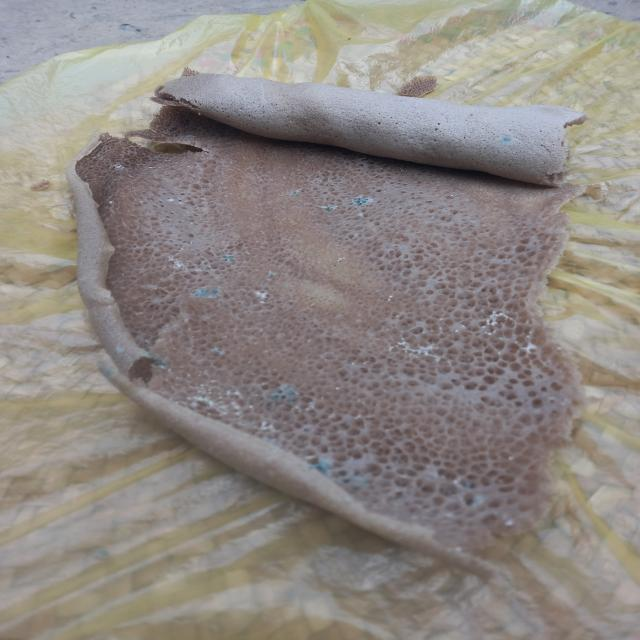injera_mold: (388, 338, 446, 362), (190, 384, 243, 406), (483, 310, 514, 331), (142, 350, 172, 370), (268, 386, 299, 405), (340, 471, 368, 492), (190, 286, 222, 299), (94, 364, 120, 380), (311, 460, 332, 478), (515, 339, 538, 355), (166, 256, 188, 271), (250, 289, 270, 304), (351, 194, 372, 208), (458, 477, 478, 491), (260, 421, 278, 433), (470, 494, 484, 509), (300, 424, 314, 436), (211, 346, 226, 356), (109, 161, 124, 170), (305, 401, 316, 411), (223, 254, 235, 263), (113, 347, 125, 356), (181, 132, 198, 138), (323, 204, 337, 211), (267, 270, 277, 279), (502, 136, 512, 144), (291, 190, 299, 195), (167, 197, 175, 202), (107, 200, 116, 204)
